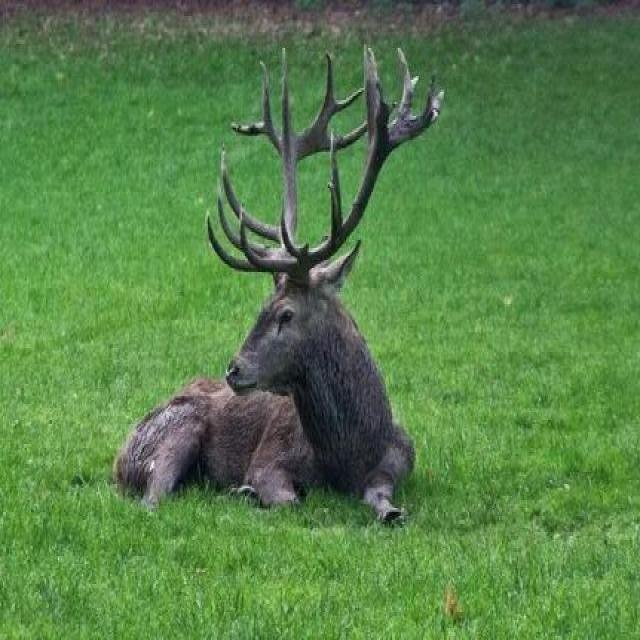deer: (190, 119, 402, 533)
